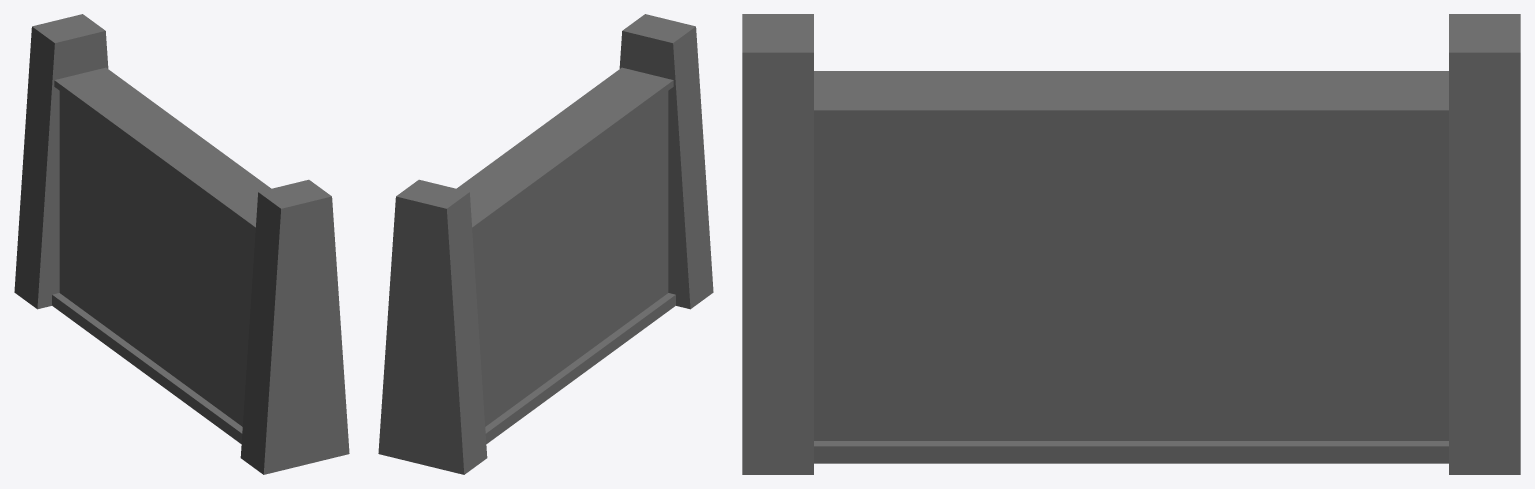
File: wall.fbx
3 views of the same model, side by side, from view 1: azimuth 30°, elevation 25°; view 2: azimuth 150°, elevation 25°; view 3: azimuth 270°, elevation 25° (orthographic). The views are drawn at different scales.
Visible parts, largest first — view 1: Wall; view 2: Wall; view 3: Wall.
Boxes of the visible parts, left/top/right/bottom form: Wall: left=14, top=14, right=349, bottom=474; Wall: left=378, top=14, right=713, bottom=474; Wall: left=742, top=14, right=1520, bottom=474.
Size of the model in its own units: 0.9647 by 2.81 by 4.85.
